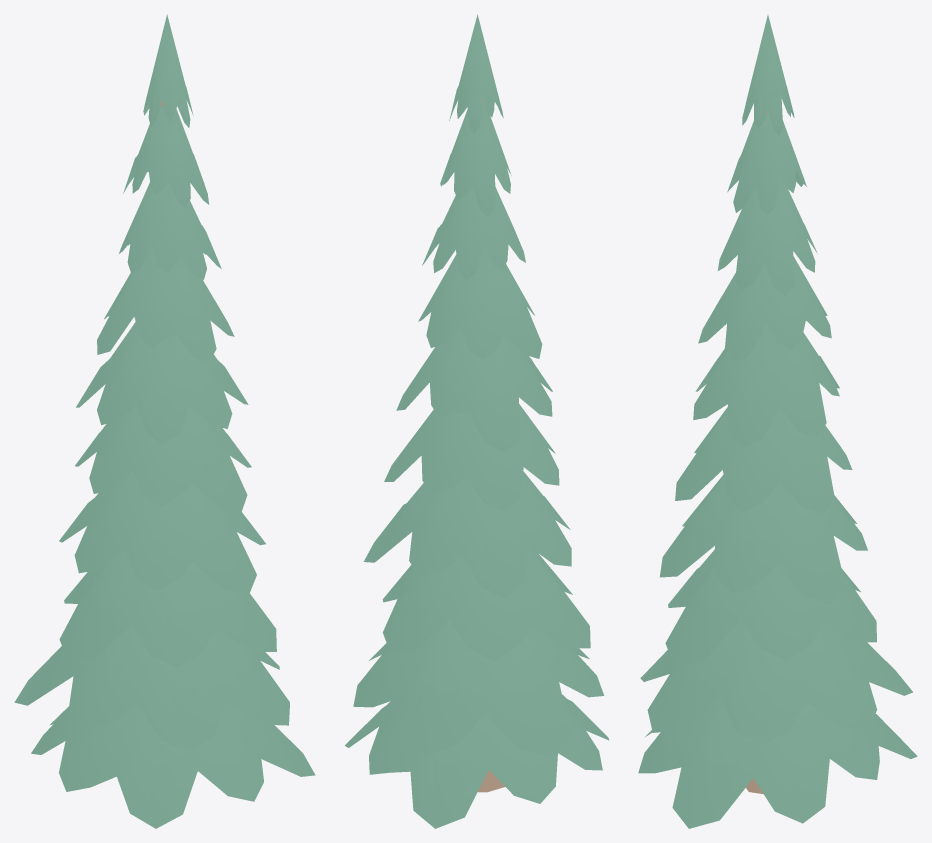
File: Blender_Spruce_3.glb
3 views of the same model, side by side, from view 1: azimuth 30°, elevation 25°; view 2: azimuth 150°, elevation 25°; view 3: azimuth 270°, elevation 25° (orthographic).
Parts seen in each view (by area): view 1: Blender_Spruce_3; view 2: Blender_Spruce_3; view 3: Blender_Spruce_3.
Part boxes in pixels (x1=…): Blender_Spruce_3: x1=14, y1=14, x2=315, y2=828; Blender_Spruce_3: x1=345, y1=14, x2=609, y2=828; Blender_Spruce_3: x1=638, y1=15, x2=917, y2=828.
Bounding box in the file's own units: 8.69 × 27.36 × 9.
